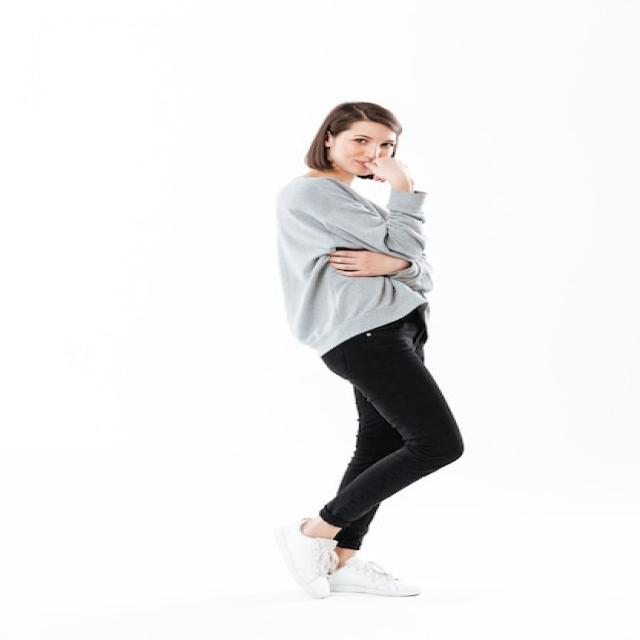Person: (276, 102, 464, 598)
